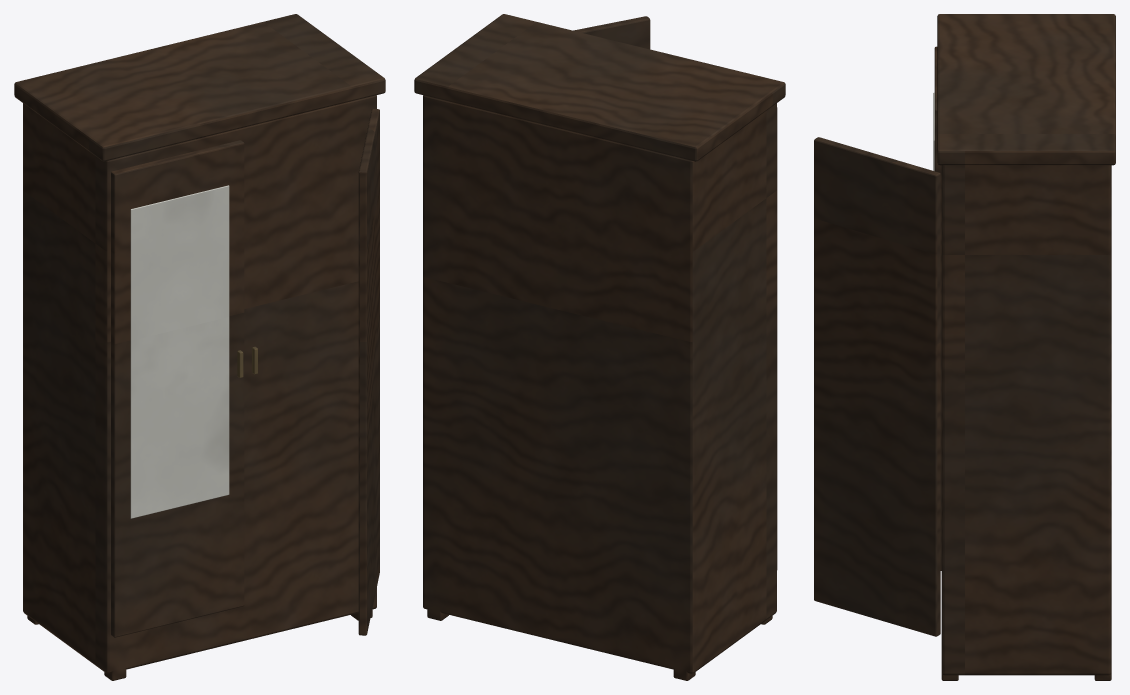
File: B04_wooden_wardrobe_v1.glb
3 views of the same model, side by side, from view 1: azimuth 30°, elevation 25°; view 2: azimuth 150°, elevation 25°; view 3: azimuth 270°, elevation 25° (orthographic).
Visible parts, largest first — view 1: B04_wooden_wardrobe_v1; view 2: B04_wooden_wardrobe_v1; view 3: B04_wooden_wardrobe_v1.
Part boxes in pixels (box(x1,y1,x2,y2)): B04_wooden_wardrobe_v1: box(14, 14, 385, 680); B04_wooden_wardrobe_v1: box(414, 14, 785, 680); B04_wooden_wardrobe_v1: box(814, 14, 1115, 680).
Size of the model in its own units: 1.1 by 2 by 1.02.
Materials: 7 (7 with a texture image).
